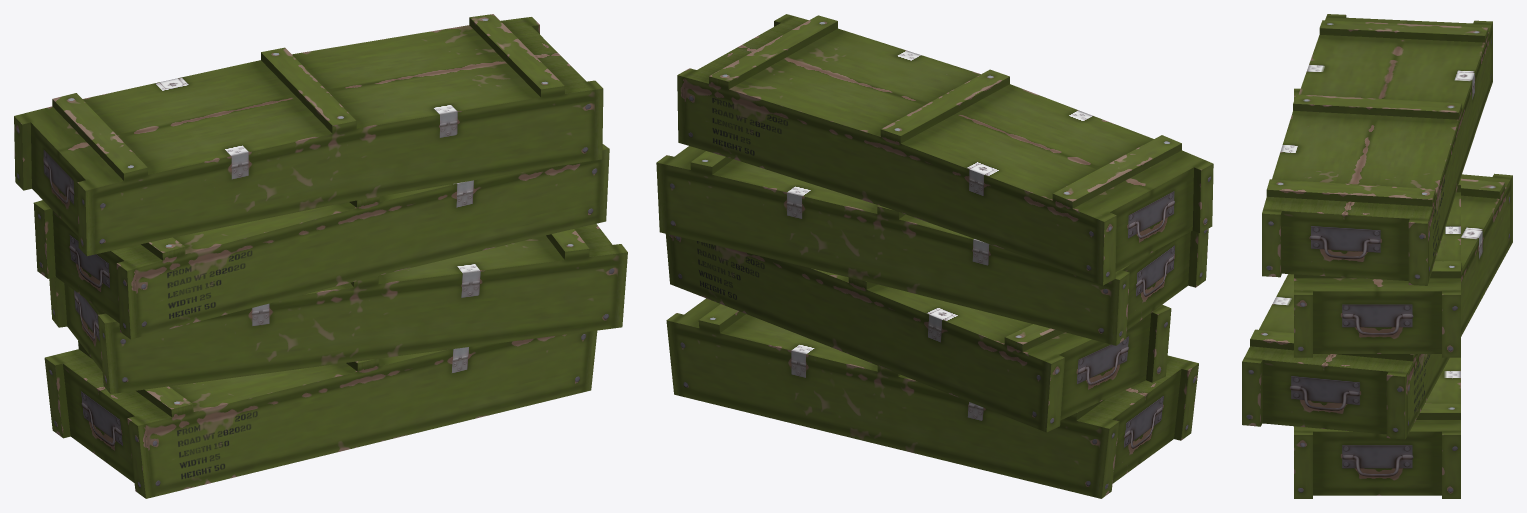
The model's file is Crate04_3.FBX.
The picture shows the model from 3 angles, left to right: view 1: azimuth 30°, elevation 25°; view 2: azimuth 150°, elevation 25°; view 3: azimuth 270°, elevation 25°; orthographic projection. The views are drawn at different scales.
Parts seen in each view (by area): view 1: Crate04_3; view 2: Crate04_3; view 3: Crate04_3.
Part boxes in pixels (x1,y1,x2,y2): Crate04_3: (14, 14, 627, 498); Crate04_3: (656, 14, 1213, 498); Crate04_3: (1242, 14, 1512, 498).
Size of what is drawn, in the model's own units: 1.63 by 0.9671 by 0.8098.
